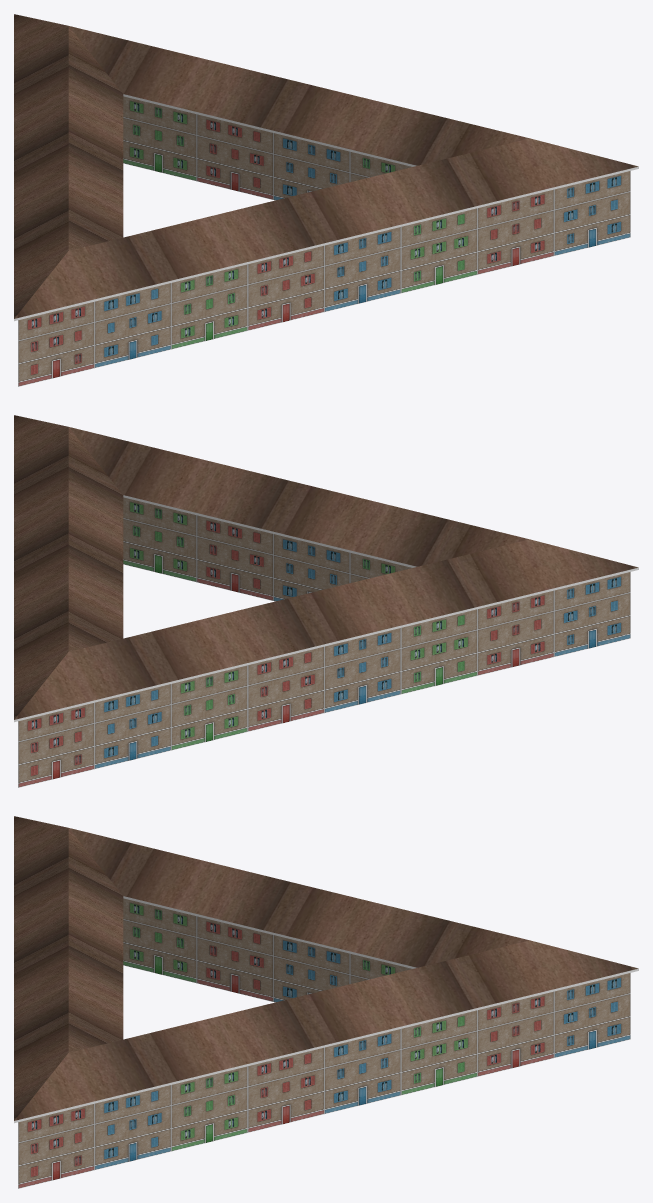
The model's file is TriangleBlock.obj.
3 views of the same model, one above another, from view 1: azimuth 30°, elevation 25°; view 2: azimuth 150°, elevation 25°; view 3: azimuth 270°, elevation 25° (orthographic).
Parts seen in each view (by area): view 1: TriangleBlock; view 2: TriangleBlock; view 3: TriangleBlock.
Part boxes in pixels (bbox=[...]): TriangleBlock: bbox=[14, 14, 638, 386]; TriangleBlock: bbox=[14, 415, 638, 787]; TriangleBlock: bbox=[14, 816, 638, 1188].
Size of the model in its own units: 85.83 by 13 by 74.33.
Materials: 10 (9 with a texture image).
